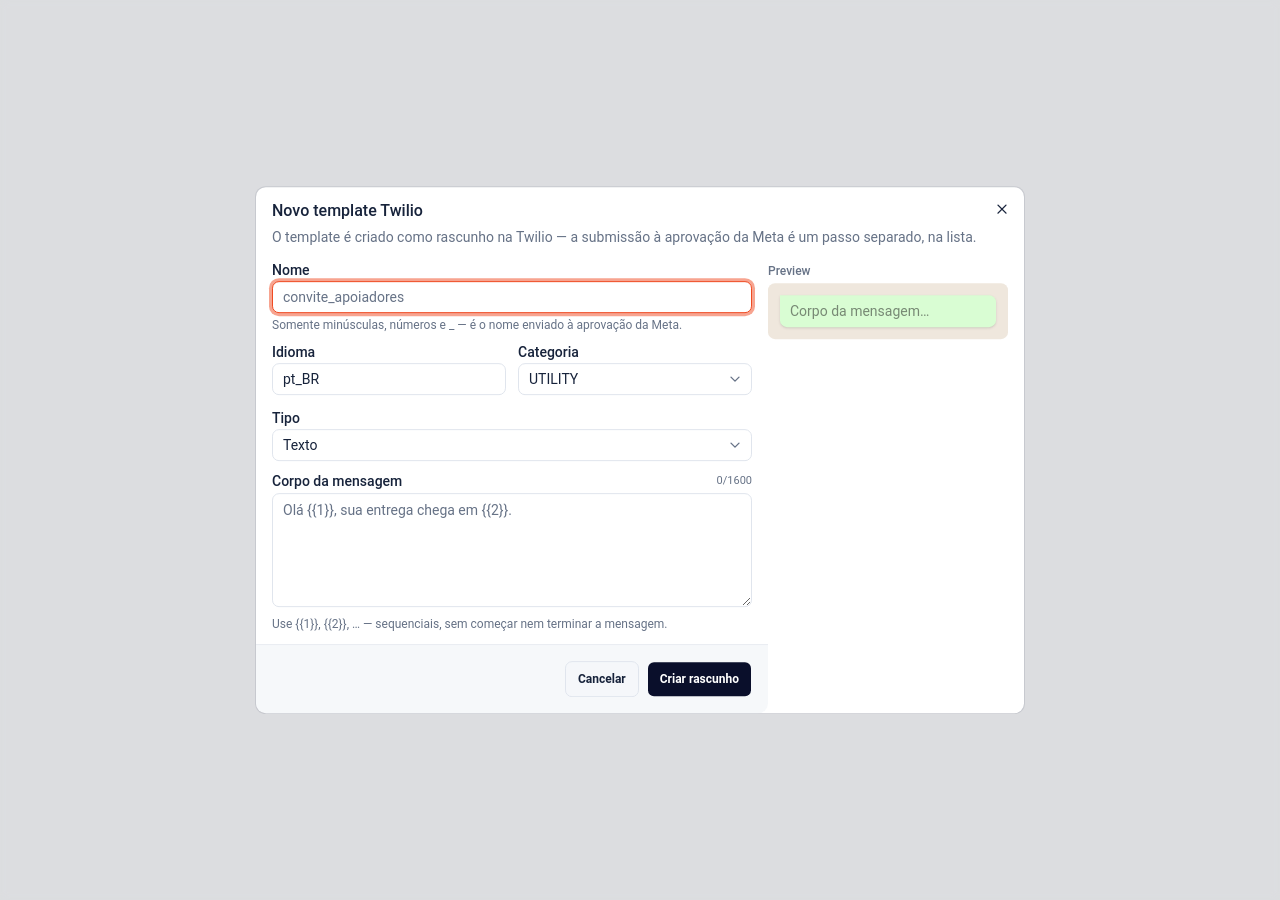
Scenario: TwilioTemplateFormDialog — preview estilo WhatsApp › desenha os botões de quick-reply no preview
Type "com_botoes" into the field labelled "Nome" at (512, 297), box x1=272 y1=281 x2=752 y2=313
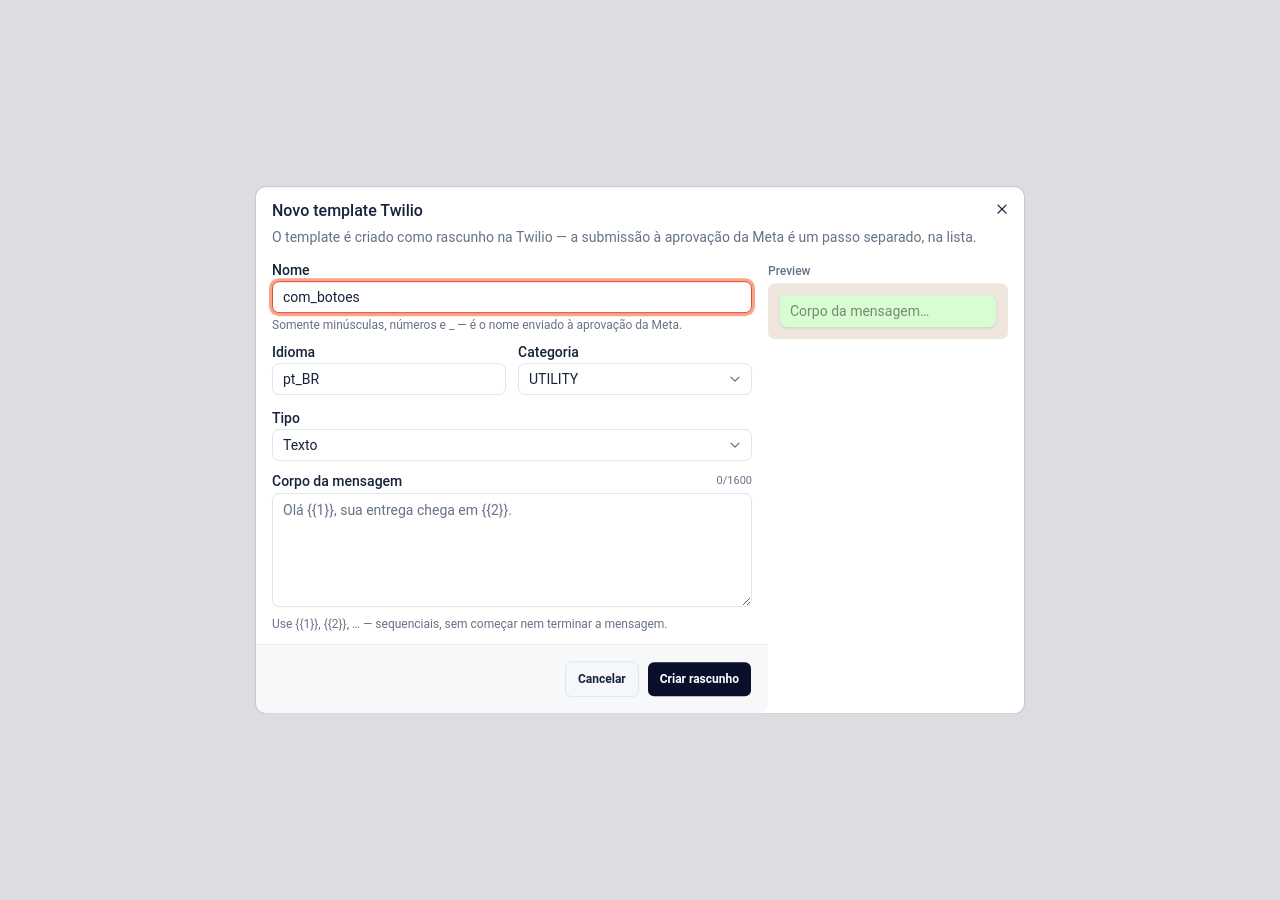
Type "Podemos confirmar?" into the text box labelled "Corpo da mensagem" at (512, 550), box x1=272 y1=493 x2=752 y2=607
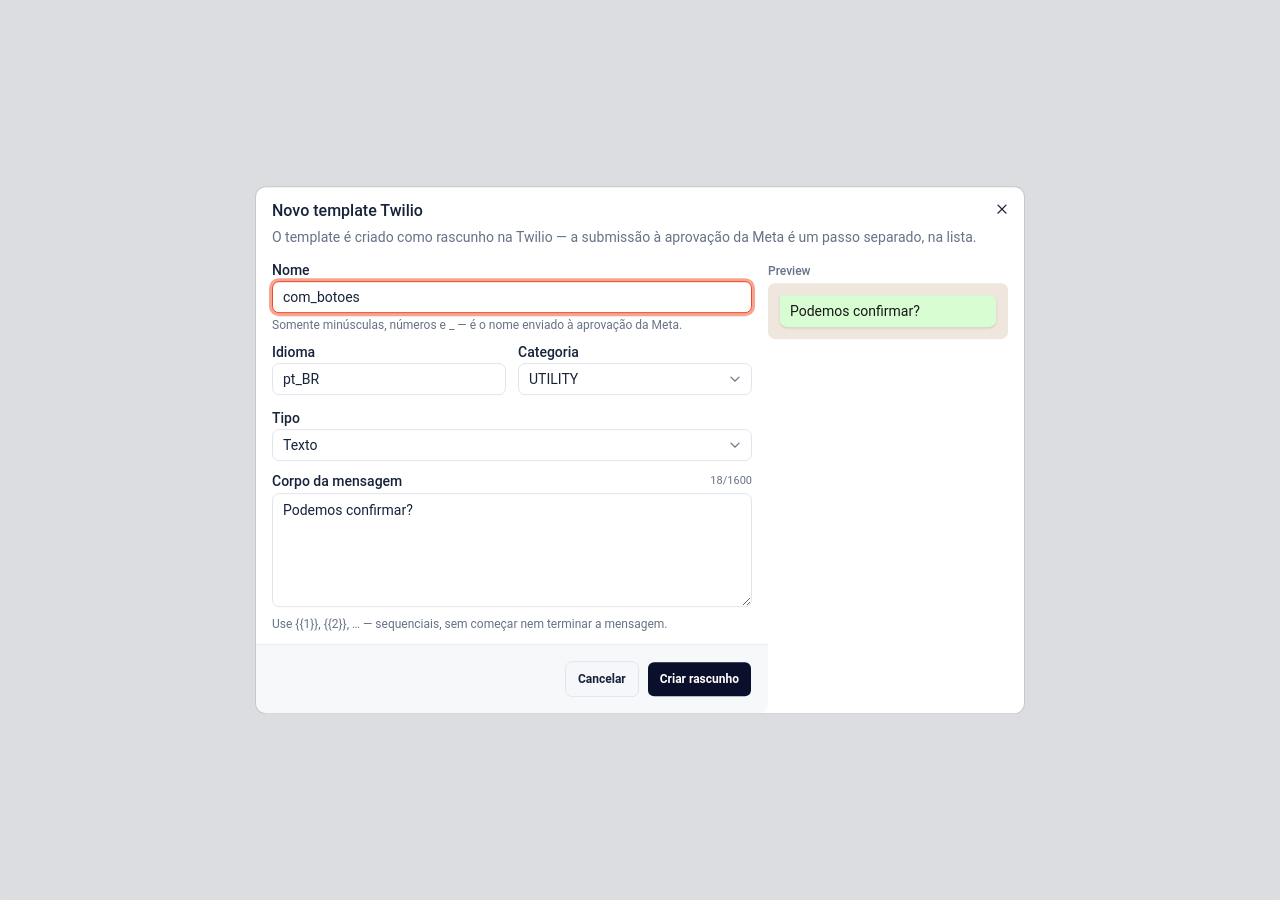
Click the dropdown with id "twilio-content-type" at (300, 445), box x1=272 y1=429 x2=752 y2=461
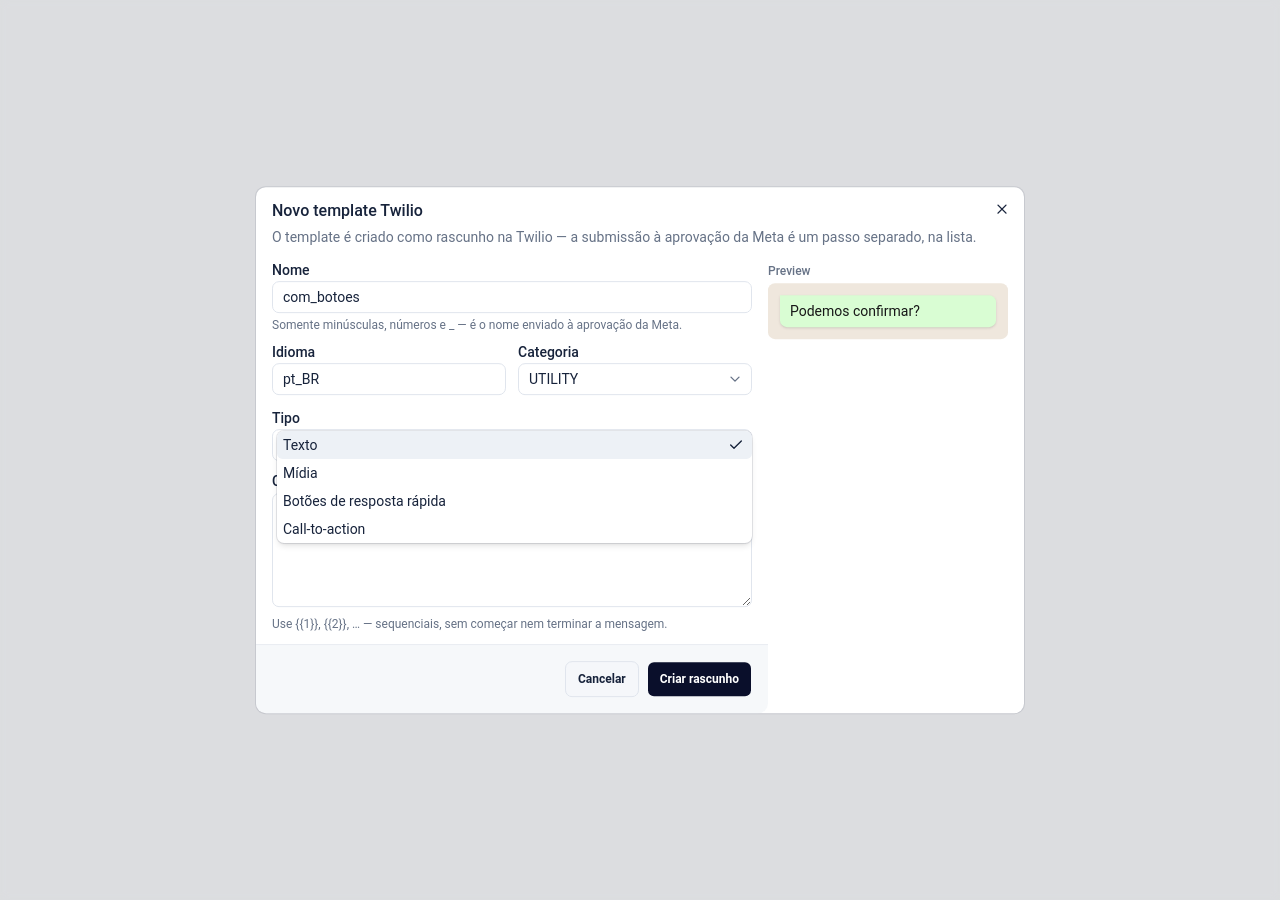
Click the option "Botões de resposta rápida" at (364, 501), box x1=283 y1=493 x2=446 y2=509
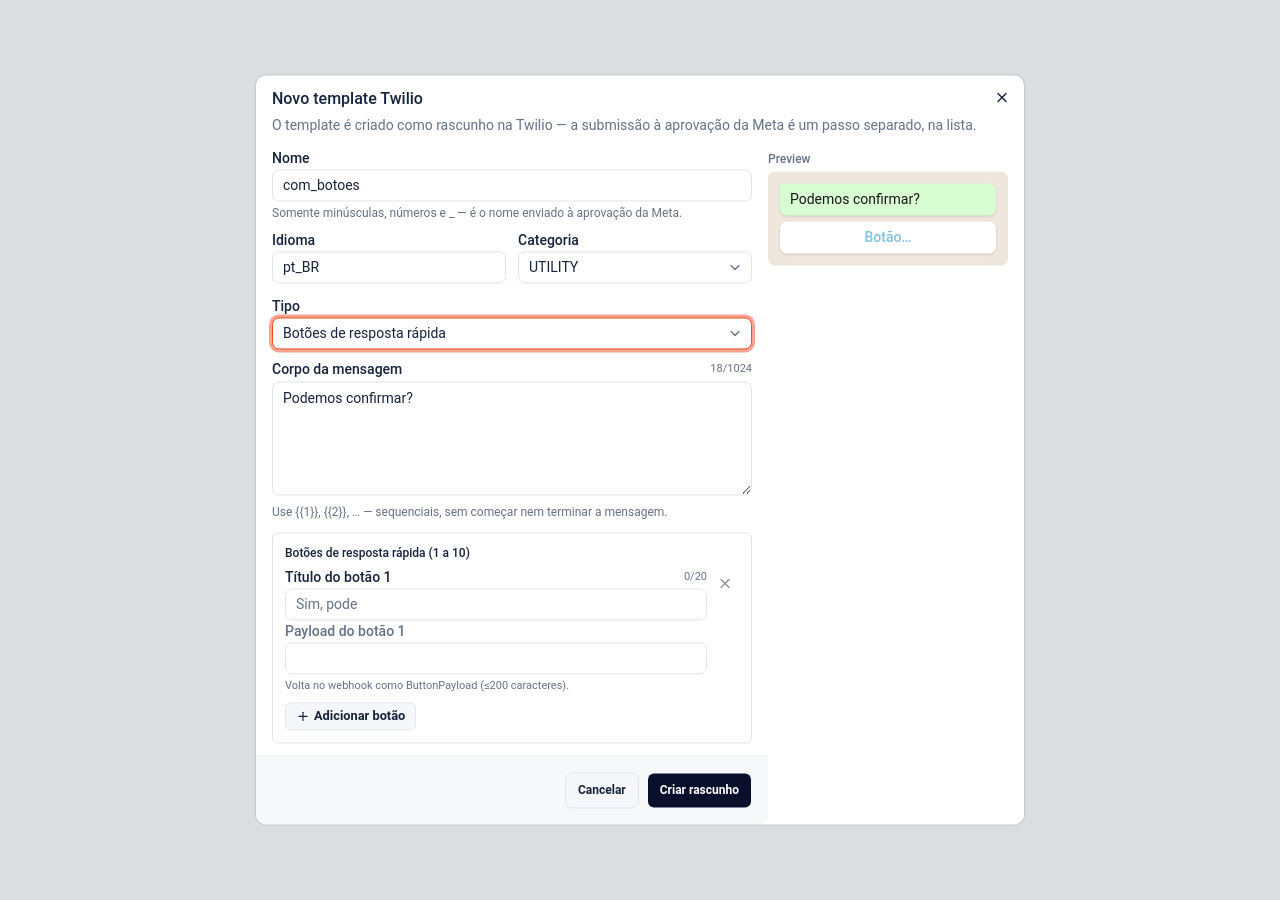
Type "Sim" into the field labelled "Título do botão 1" at (496, 605), box x1=285 y1=589 x2=707 y2=621
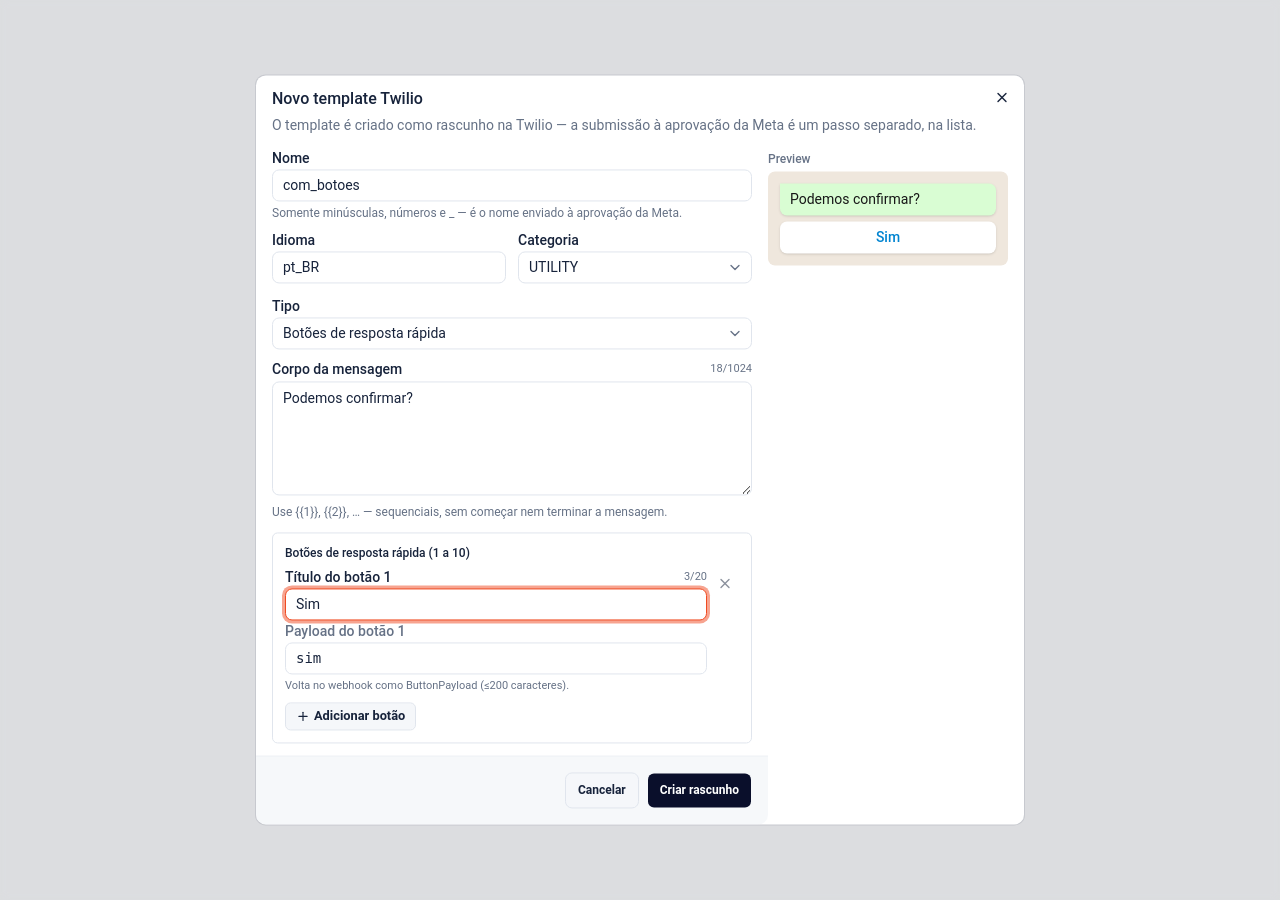
Expected: the element with test id "twilio-preview" shows "Sim", x1=876 y1=229 x2=900 y2=245
